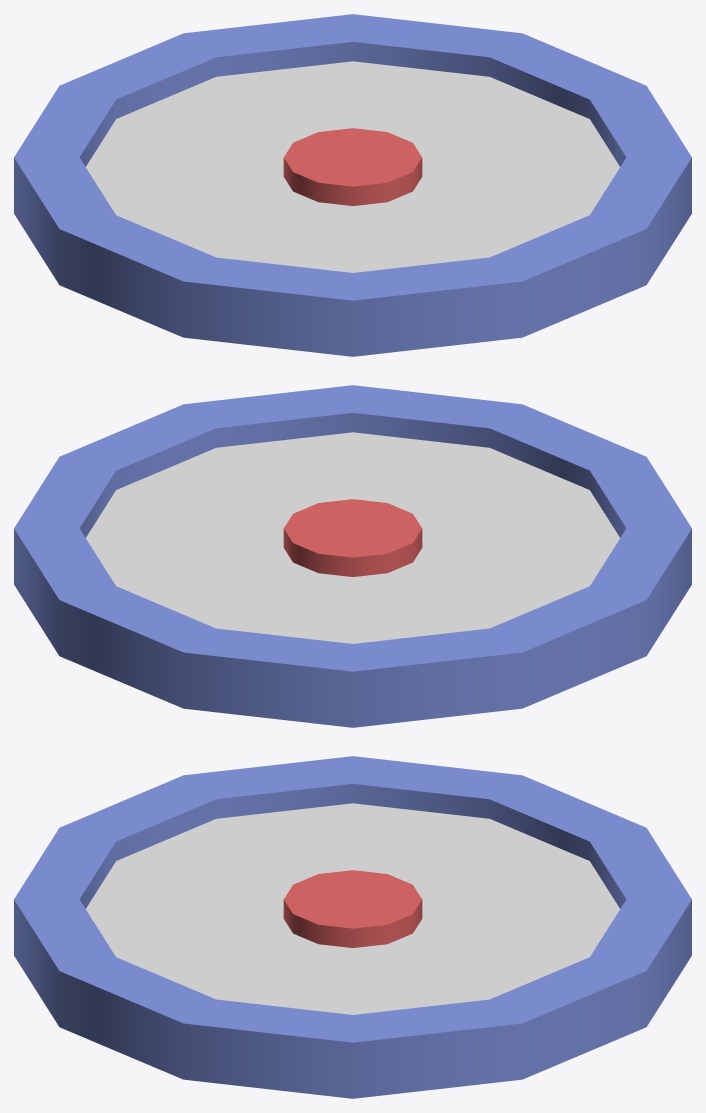
Rendered from target.fbx.
3 renders of one model, top to bottom at view 1: azimuth 30°, elevation 25°; view 2: azimuth 150°, elevation 25°; view 3: azimuth 270°, elevation 25°, orthographic.
Parts seen in each view (by area): view 1: target; view 2: target; view 3: target.
Boxes of the visible parts, x1,y1,x2,y2 form: target: (14,14,691,356); target: (14,385,691,727); target: (14,756,691,1098).
Size of the model in its own units: 1 by 0.0914 by 1.
